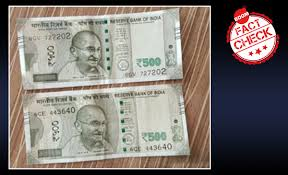fiveHundred: (29, 102, 179, 146), (26, 29, 171, 74)
